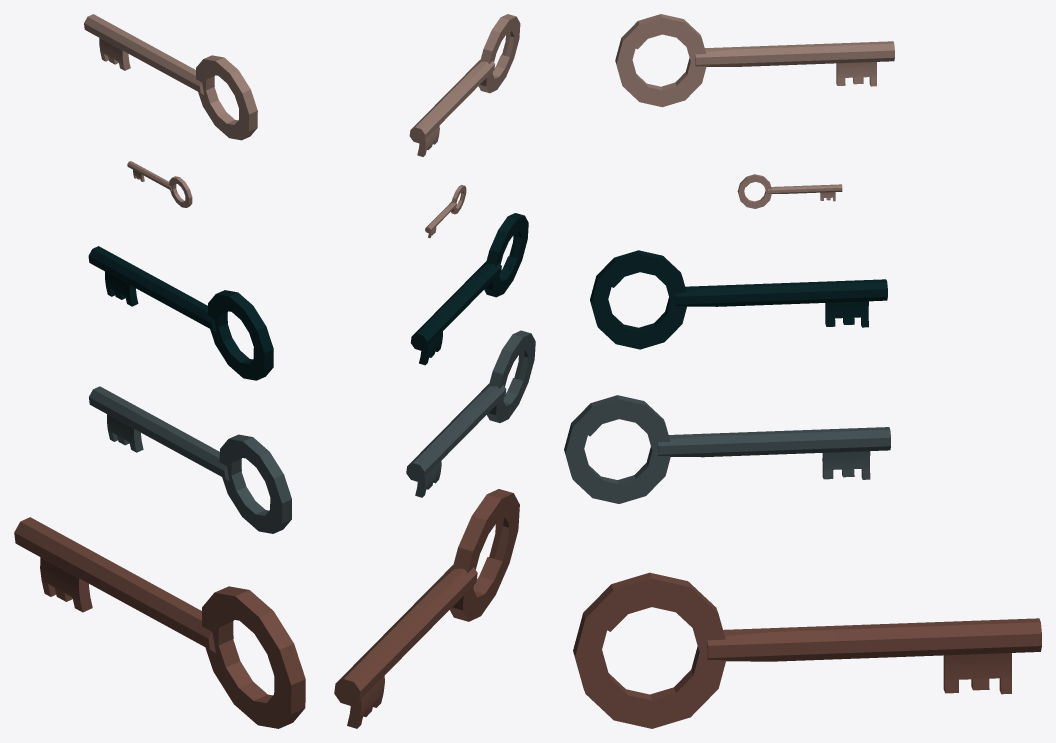
File: keyss.fbx
The picture shows the model from 3 angles, left to right: view 1: azimuth 30°, elevation 25°; view 2: azimuth 150°, elevation 25°; view 3: azimuth 270°, elevation 25°; orthographic projection. The views are drawn at different scales.
Visible parts, largest first — view 1: Evin Anahtarı, Salon Anahtarı, Mutfak Anahtarı, Çalışma Odasının Anahtarı, Günlük Anahtarı; view 2: Evin Anahtarı, Salon Anahtarı, Mutfak Anahtarı, Çalışma Odasının Anahtarı, Günlük Anahtarı; view 3: Evin Anahtarı, Salon Anahtarı, Mutfak Anahtarı, Çalışma Odasının Anahtarı, Günlük Anahtarı.
Part boxes in pixels (<box>): Evin Anahtarı: <box>14,517,305,728</box>; Salon Anahtarı: <box>89,386,291,533</box>; Mutfak Anahtarı: <box>88,246,273,380</box>; Çalışma Odasının Anahtarı: <box>84,14,257,140</box>; Günlük Anahtarı: <box>127,161,192,207</box>; Evin Anahtarı: <box>334,489,519,728</box>; Salon Anahtarı: <box>406,330,535,497</box>; Mutfak Anahtarı: <box>410,213,528,365</box>; Çalışma Odasının Anahtarı: <box>409,14,520,156</box>; Günlük Anahtarı: <box>425,185,466,238</box>; Evin Anahtarı: <box>573,572,1041,728</box>; Salon Anahtarı: <box>564,395,890,503</box>; Mutfak Anahtarı: <box>590,250,887,349</box>; Çalışma Odasının Anahtarı: <box>615,14,894,107</box>; Günlük Anahtarı: <box>737,174,842,208</box>.
Size of the model in its own units: 90.03 by 779 by 488.
